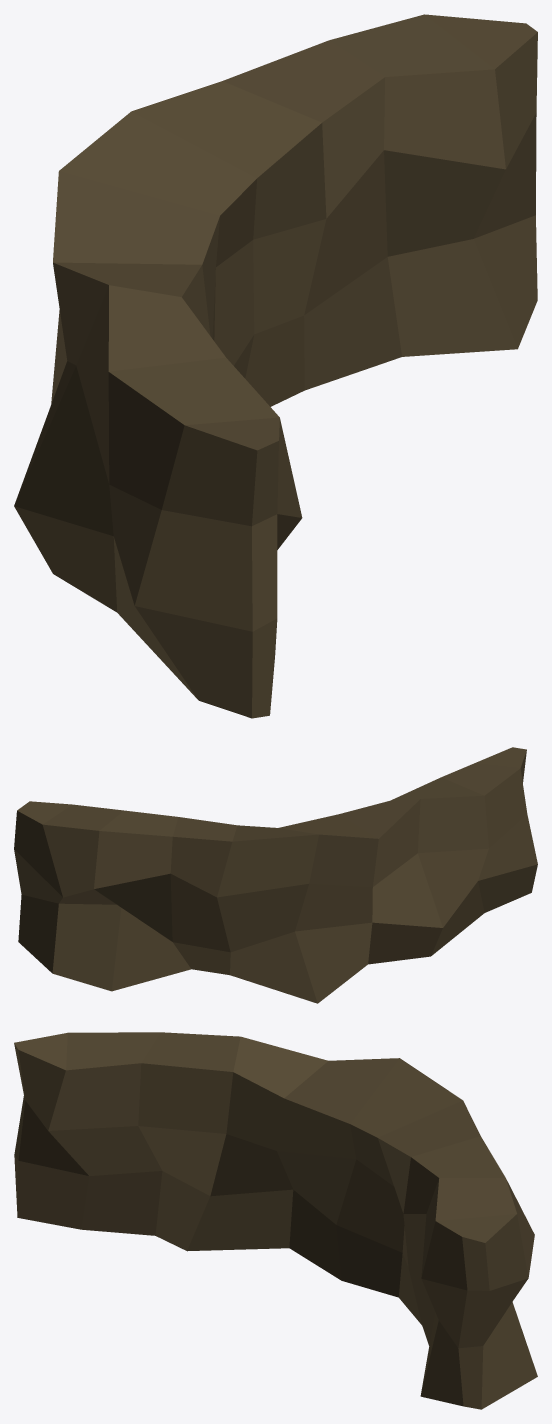
The model's file is SmallCorner.2.fbx.
The picture shows the model from 3 angles, top to bottom: view 1: azimuth 30°, elevation 25°; view 2: azimuth 150°, elevation 25°; view 3: azimuth 270°, elevation 25°; orthographic projection. The views are drawn at different scales.
Visible parts, largest first — view 1: Small_Wall Corner.2; view 2: Small_Wall Corner.2; view 3: Small_Wall Corner.2.
Part boxes in pixels (left/top/right/bottom): Small_Wall Corner.2: left=14, top=14, right=537, bottom=718; Small_Wall Corner.2: left=14, top=747, right=537, bottom=1003; Small_Wall Corner.2: left=14, top=1032, right=537, bottom=1409.
Size of the model in its own units: 1316 by 577 by 1322.
